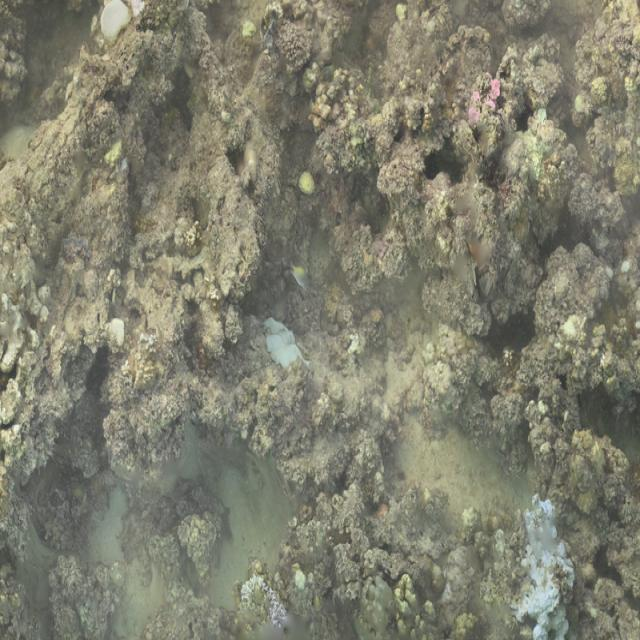Bleached Coral: (495, 482, 587, 640), (233, 564, 292, 628)
